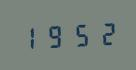five: (68, 19, 92, 48)
nine: (43, 21, 67, 49)
one: (18, 22, 42, 51)
two: (93, 18, 117, 47)
